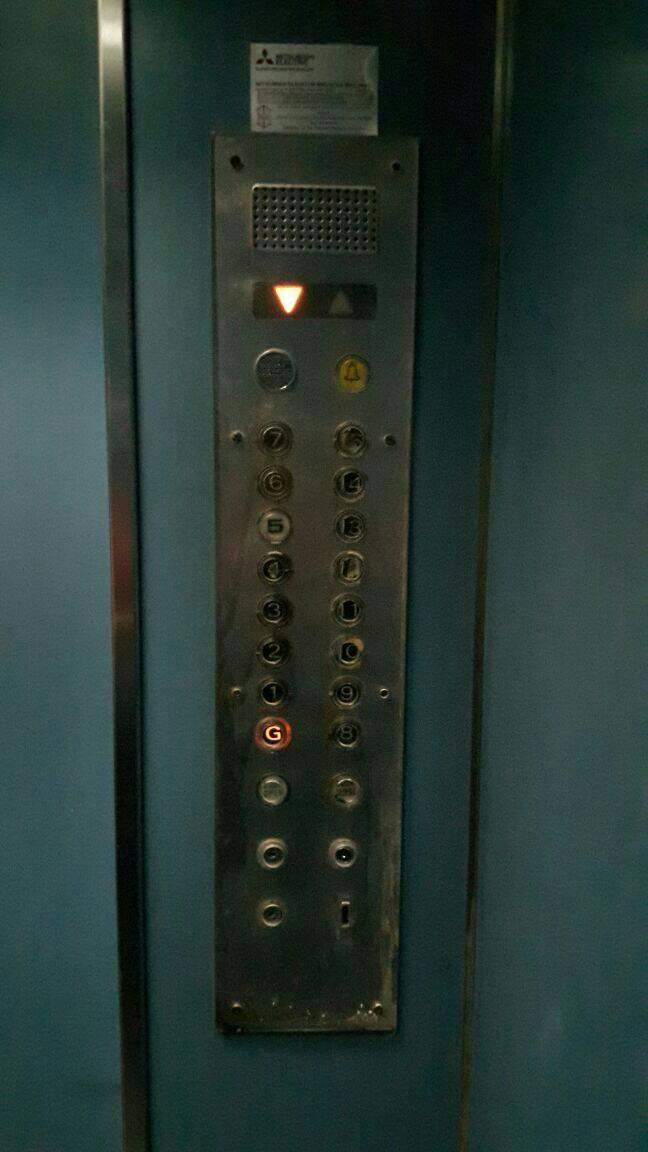1: (255, 674, 292, 709)
10: (326, 632, 365, 669)
11: (328, 590, 367, 627)
13: (329, 504, 369, 544)
14: (329, 464, 369, 504)
2: (255, 632, 292, 667)
3: (255, 592, 292, 627)
4: (255, 549, 292, 584)
5: (254, 506, 293, 543)
6: (255, 463, 294, 500)
7: (254, 419, 295, 457)
8: (326, 714, 365, 751)
9: (327, 672, 366, 709)
G: (252, 714, 291, 750)
alarm: (331, 352, 371, 394)
blur: (248, 346, 296, 394), (327, 547, 367, 587), (329, 420, 369, 460)
keyhole: (254, 834, 289, 871), (325, 835, 359, 870), (257, 896, 285, 929)
unknown: (327, 770, 364, 808), (255, 772, 289, 806), (334, 892, 355, 932)
